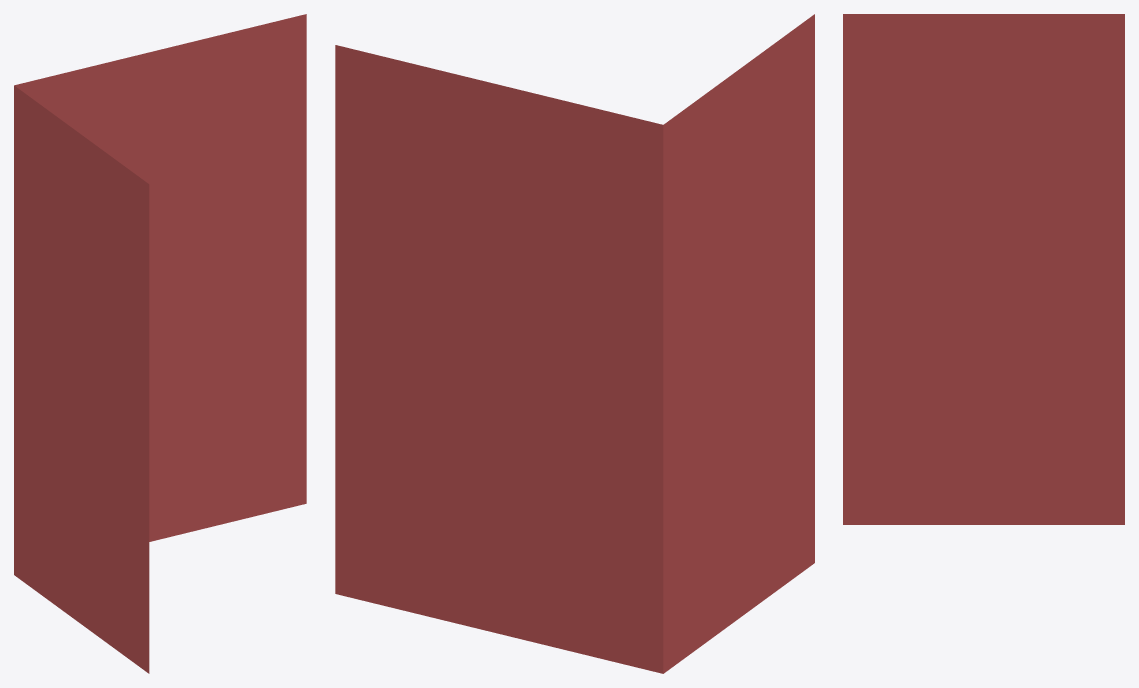
Rendered from th_hondana.glb.
3 renders of one model, left to right at view 1: azimuth 30°, elevation 25°; view 2: azimuth 150°, elevation 25°; view 3: azimuth 270°, elevation 25°, orthographic. The views are drawn at different scales.
Parts seen in each view (by area): view 1: th_hondana_col; view 2: th_hondana_col; view 3: th_hondana_col.
Part boxes in pixels (x1,y1,x2,y2): th_hondana_col: (14,14,306,673); th_hondana_col: (335,14,814,673); th_hondana_col: (843,14,1124,524).
Size of the model in its own units: 5 by 8 by 4.
